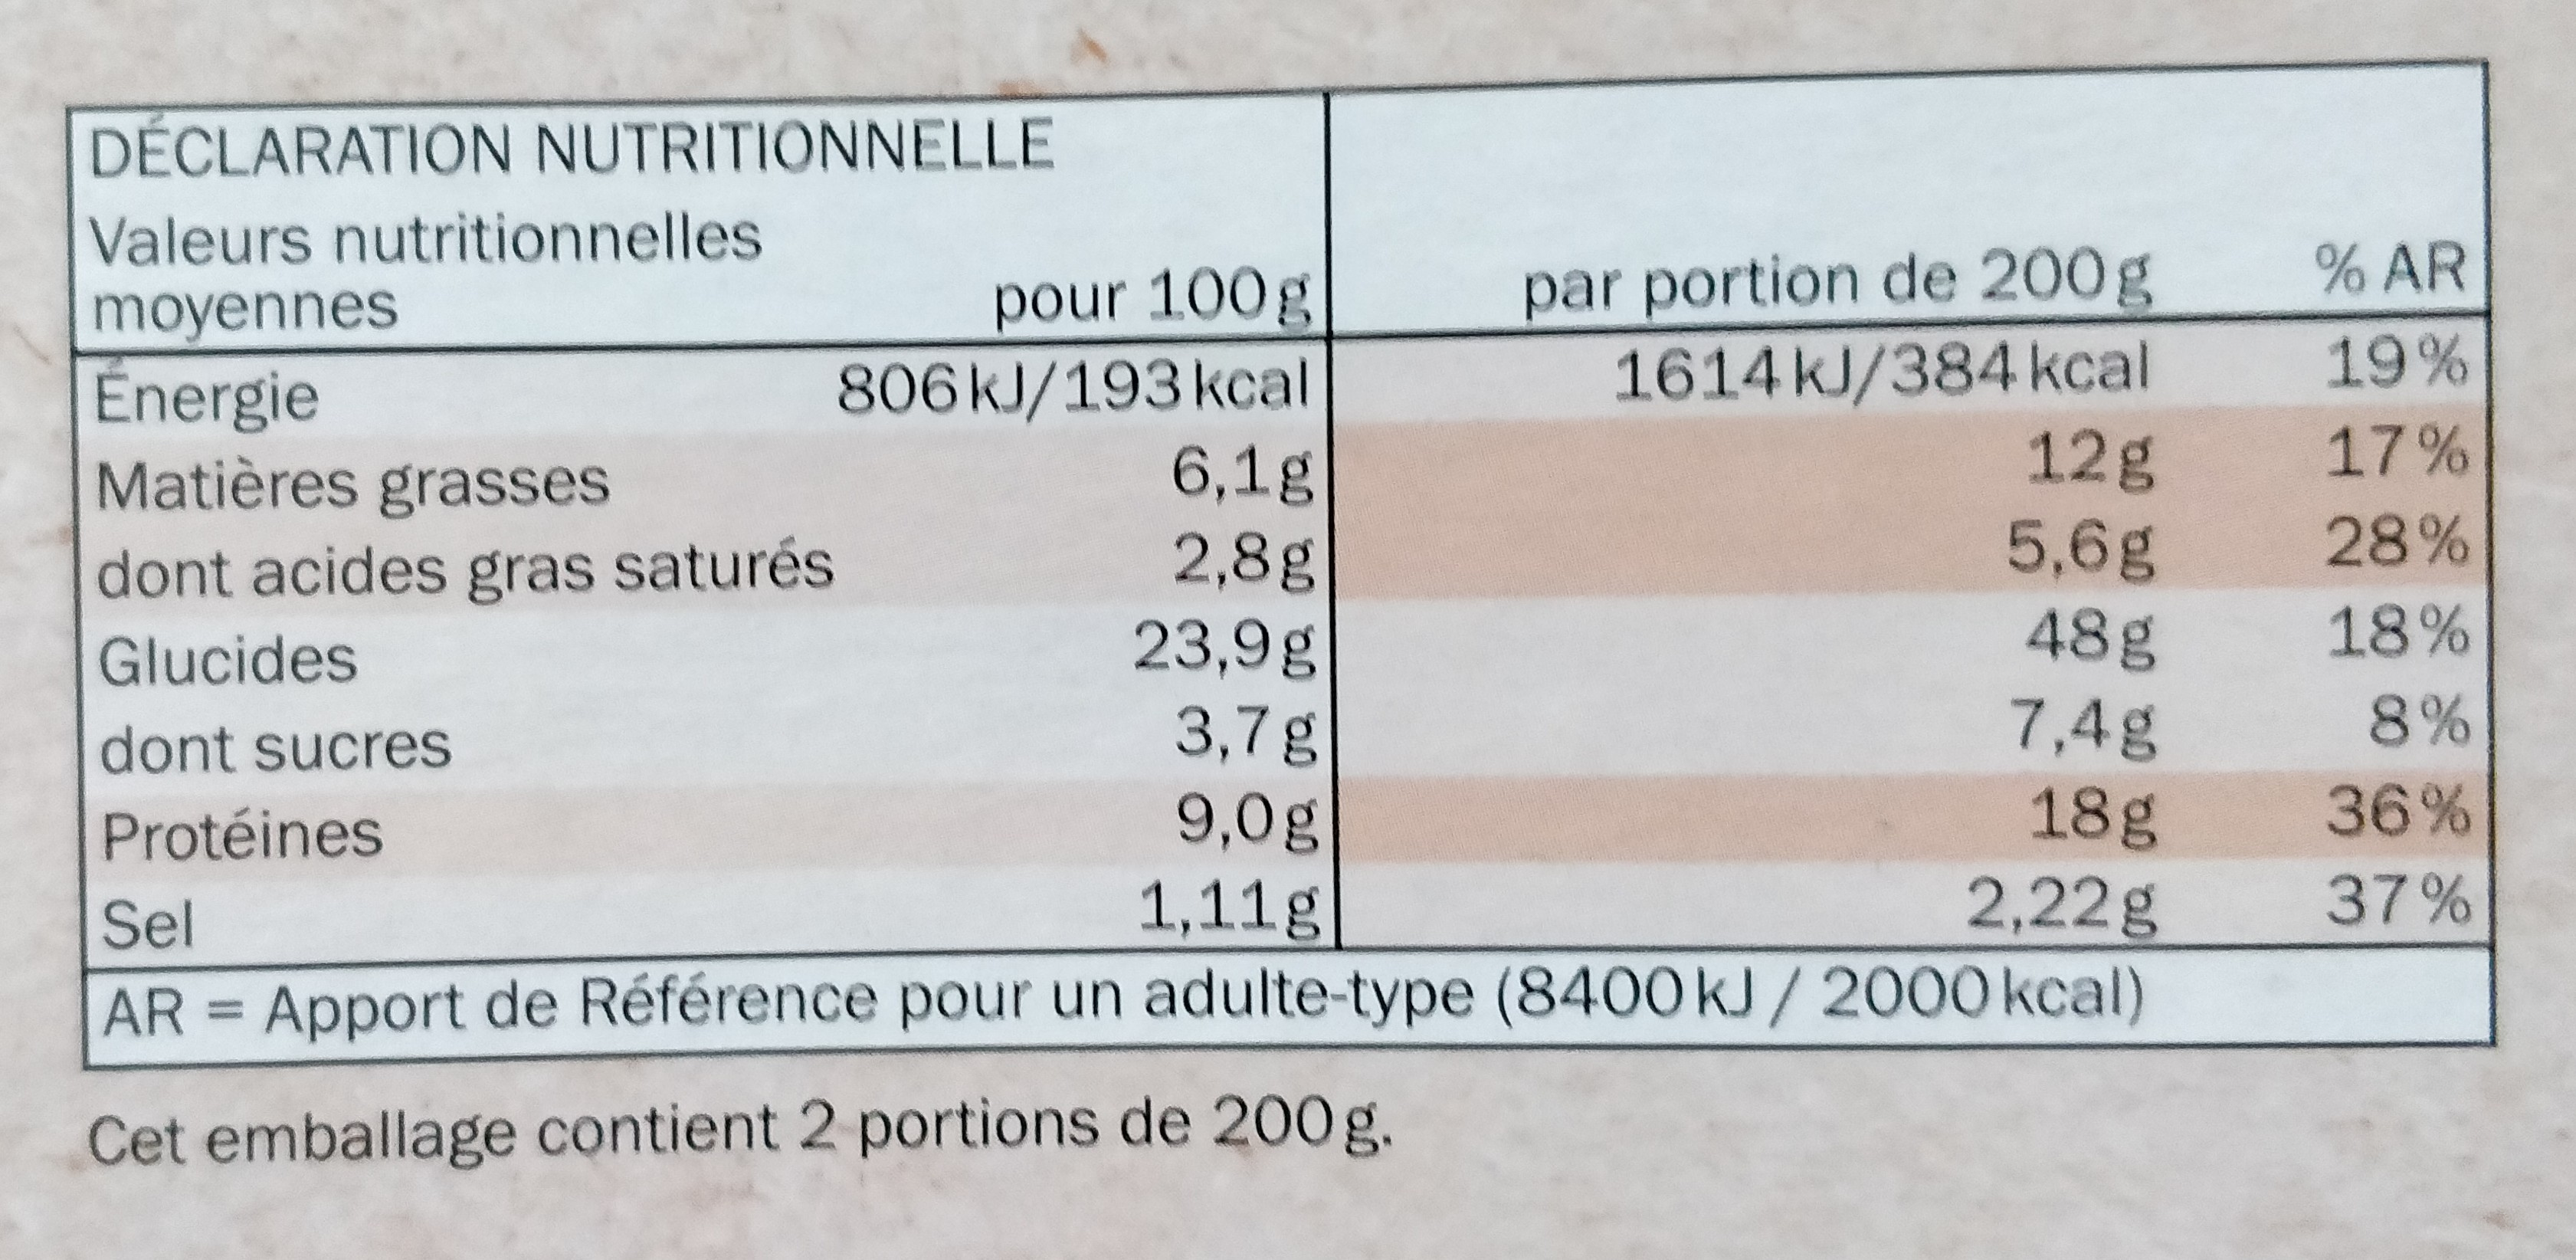column: (74, 209, 833, 953), (1516, 241, 2185, 940), (840, 266, 1323, 941), (2310, 237, 2474, 941)
table: (80, 51, 2512, 968)
